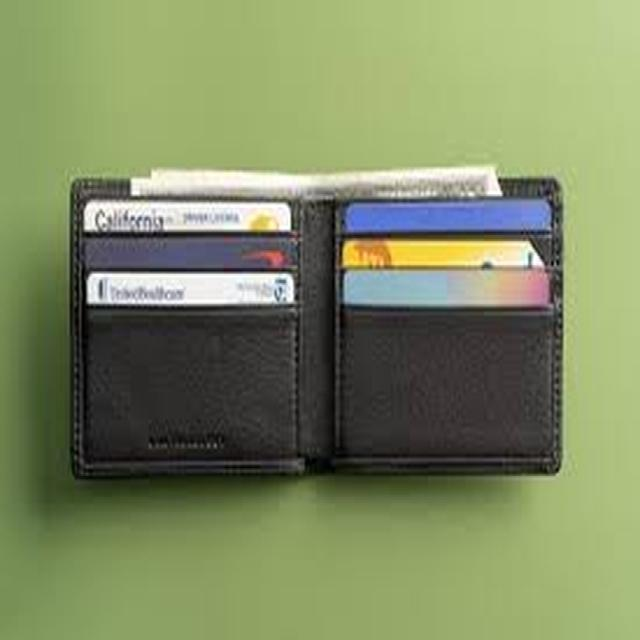wallet: (59, 134, 578, 496)
